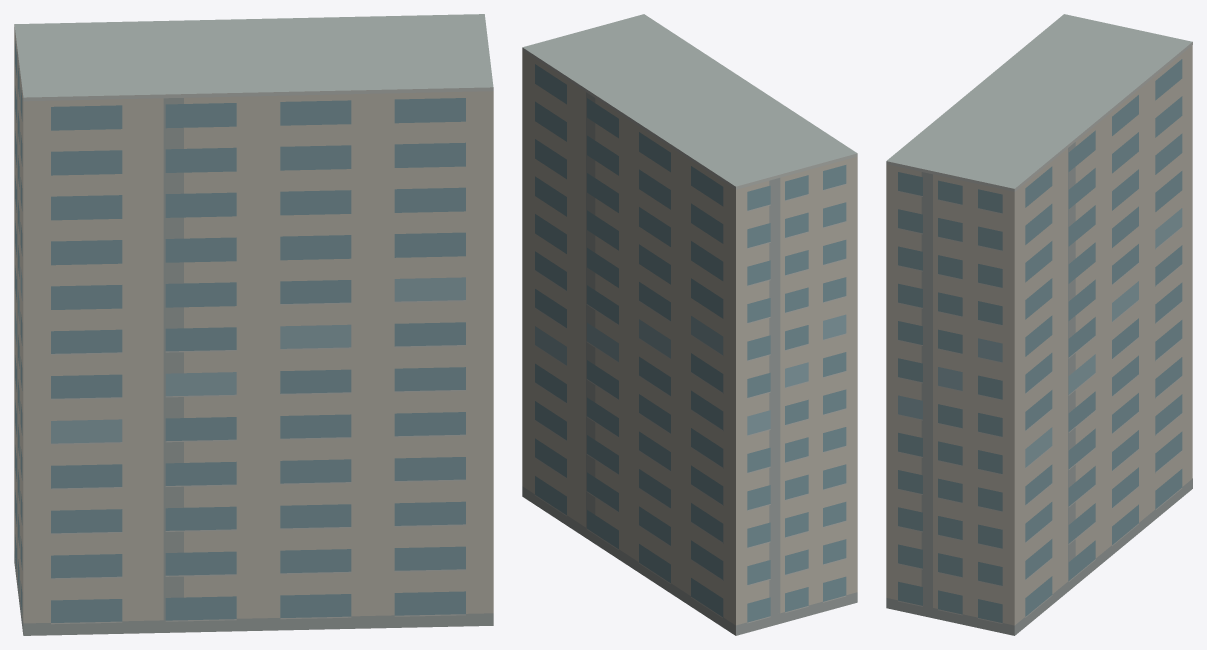
File: residential-b1428c52-d08f-49e9-a218-90d30a509eed.glb
3 views of the same model, side by side, from view 1: azimuth 30°, elevation 25°; view 2: azimuth 150°, elevation 25°; view 3: azimuth 270°, elevation 25° (orthographic). The views are drawn at different scales.
Parts seen in each view (by area): view 1: residential-b1428c52-d08f-49e9-a218-90d30a509eed.tmp; view 2: residential-b1428c52-d08f-49e9-a218-90d30a509eed.tmp; view 3: residential-b1428c52-d08f-49e9-a218-90d30a509eed.tmp.
Part boxes in pixels (x1,y1,x2,y2): residential-b1428c52-d08f-49e9-a218-90d30a509eed.tmp: (14,14,493,635); residential-b1428c52-d08f-49e9-a218-90d30a509eed.tmp: (522,14,857,635); residential-b1428c52-d08f-49e9-a218-90d30a509eed.tmp: (886,14,1192,635).
Bounding box in the file's own units: 29.37 × 35 × 21.76.
